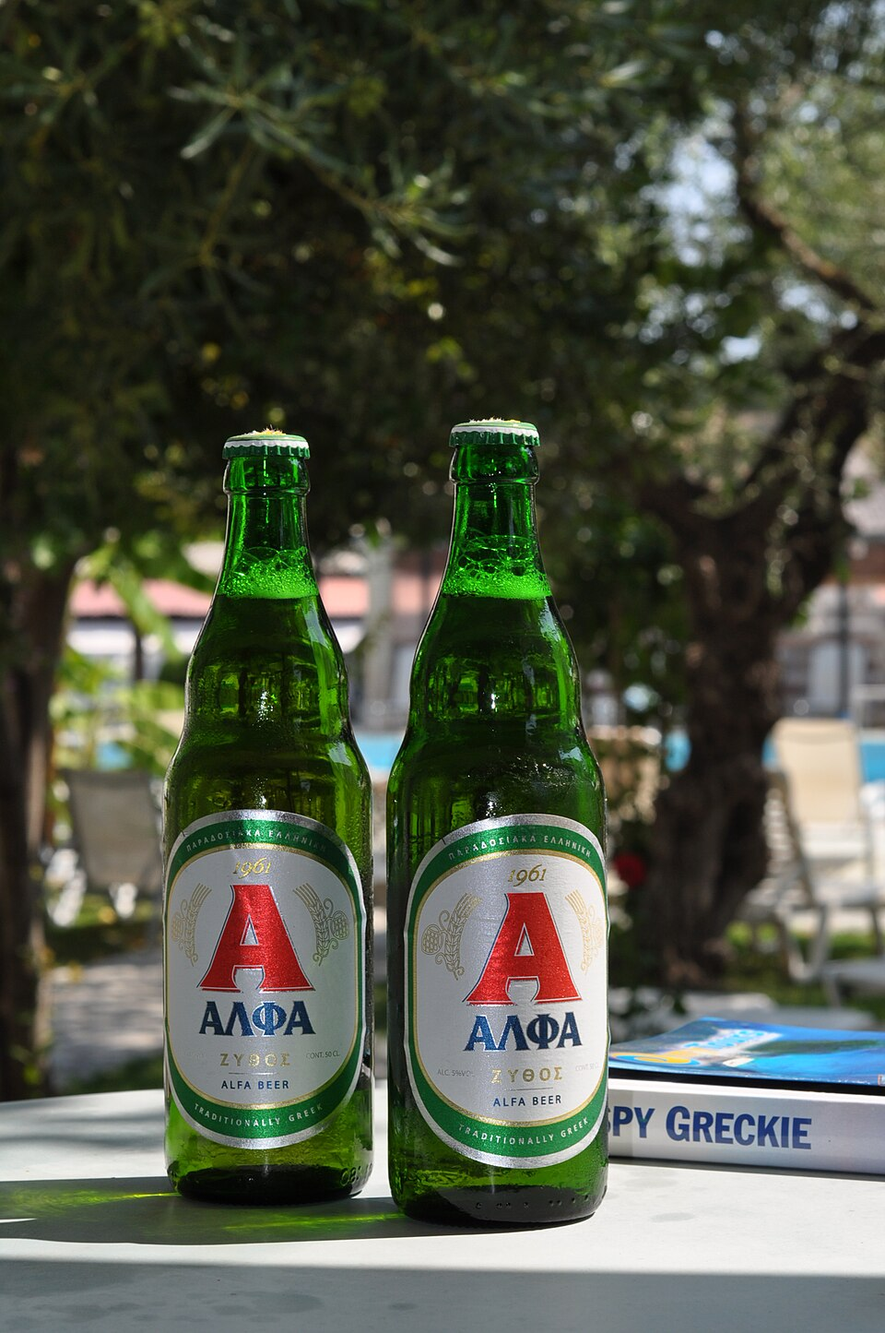beer-bottle: (377, 414, 619, 1237), (150, 427, 381, 1224)
